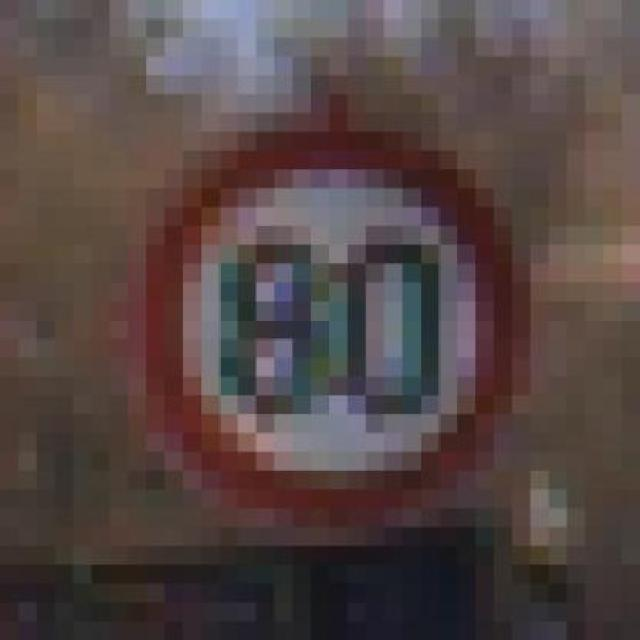forb_speed_over_80: (146, 123, 525, 520)
